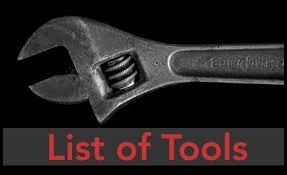wrench: (15, 12, 286, 125)
